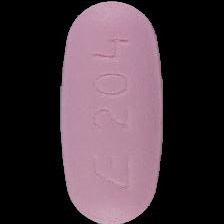54868-5256: (0, 0, 224, 224)
